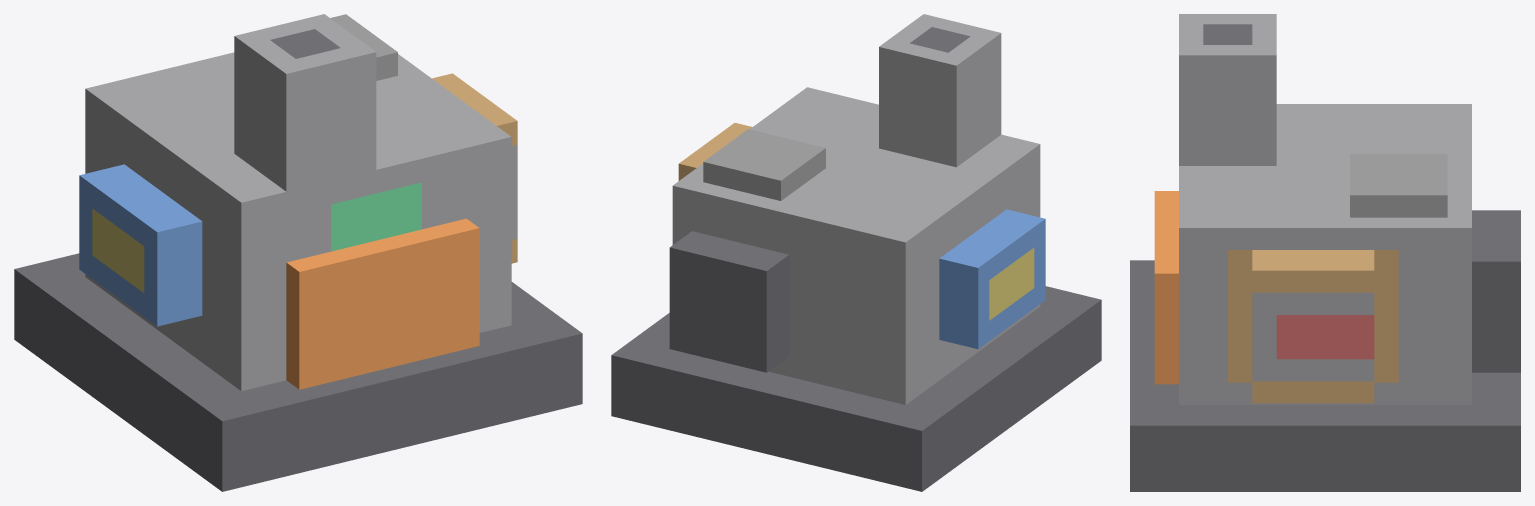
Rendered from generator.glb.
3 views of the same model, side by side, from view 1: azimuth 30°, elevation 25°; view 2: azimuth 150°, elevation 25°; view 3: azimuth 270°, elevation 25° (orthographic). The views are drawn at different scales.
Parts seen in each view (by area): view 1: VoxelModel; view 2: VoxelModel; view 3: VoxelModel.
Part boxes in pixels (<box>): VoxelModel: <box>14,14,582,491</box>; VoxelModel: <box>611,14,1101,491</box>; VoxelModel: <box>1130,14,1520,491</box>.
Bounding box in the file's own units: 1 × 1 × 1.
